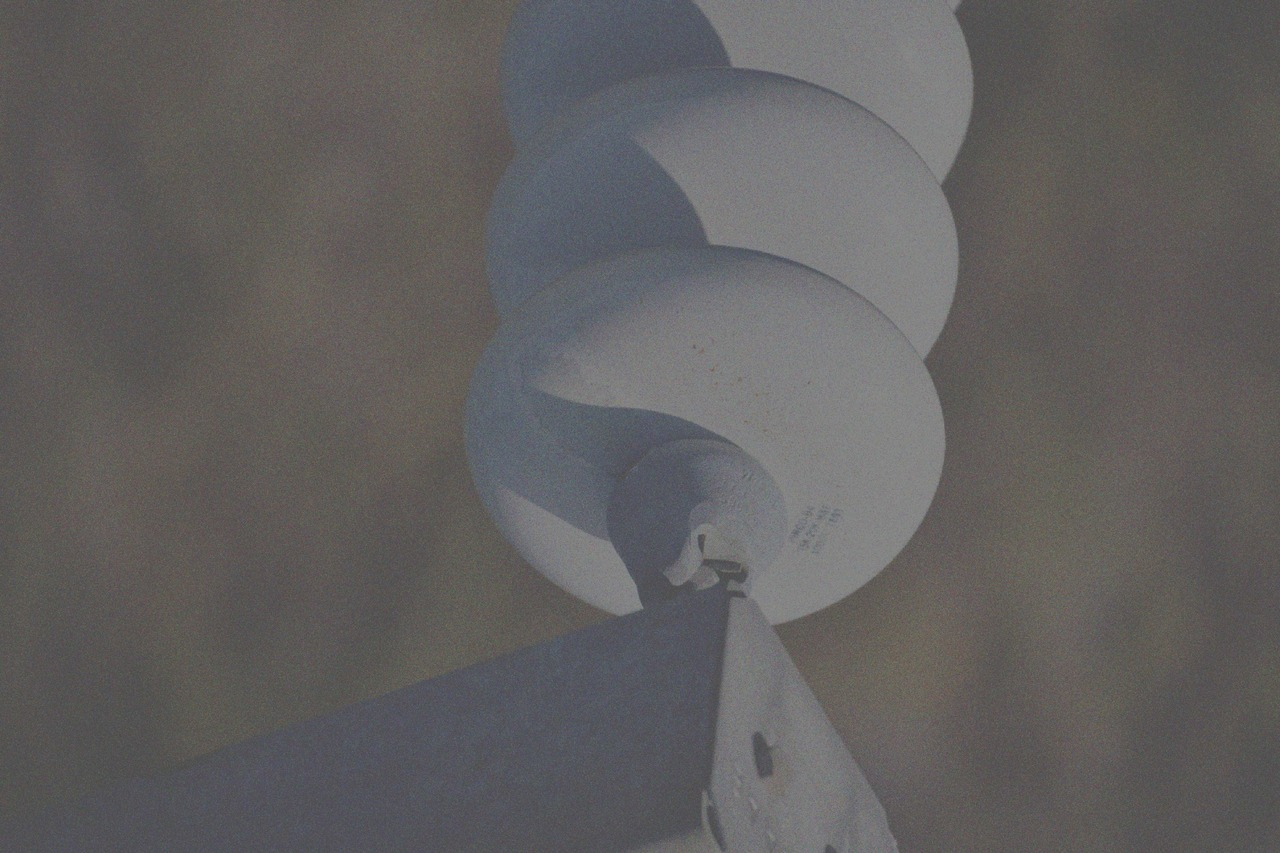Flashover damage: (462, 242, 958, 641)
No issues: (477, 62, 958, 327), (490, 0, 975, 177)
String: (451, 0, 978, 647)
